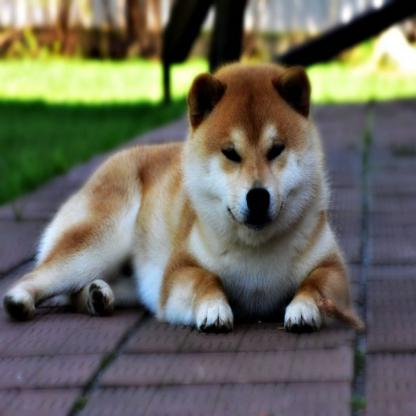Siba-ny: (6, 55, 365, 338)
